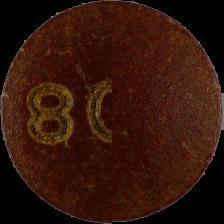42192-802: (0, 0, 224, 224)
